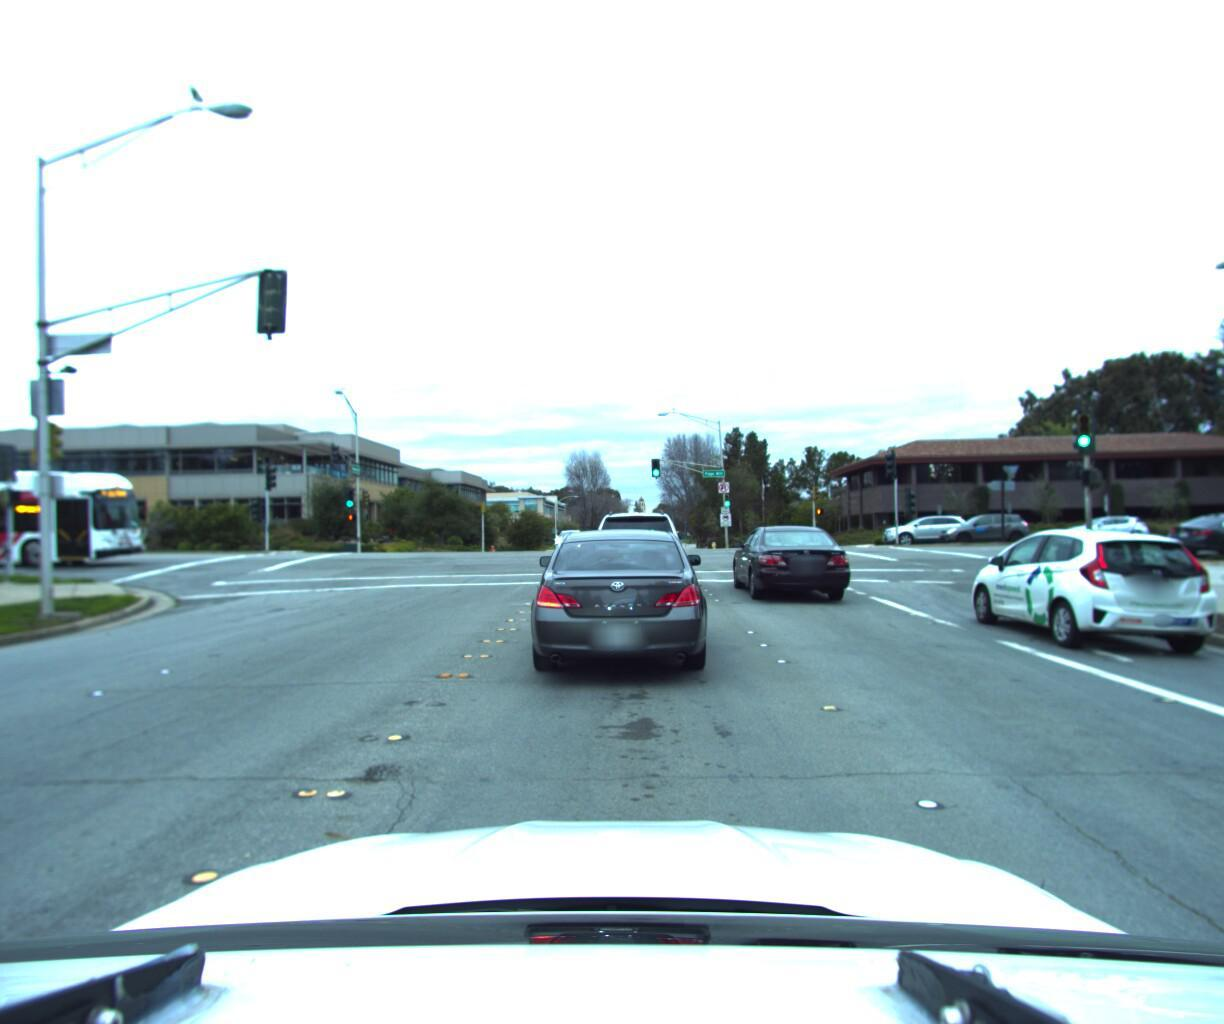car: (965, 521, 1224, 659), (525, 517, 710, 691), (725, 518, 860, 605), (582, 503, 692, 597), (933, 506, 1034, 541), (873, 508, 969, 542), (1159, 501, 1224, 550), (1054, 507, 1154, 538), (551, 527, 586, 552)
